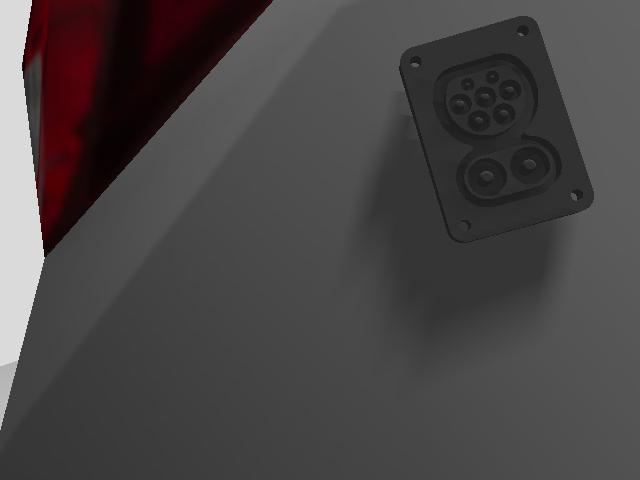EV-socket: (395, 13, 600, 248)
